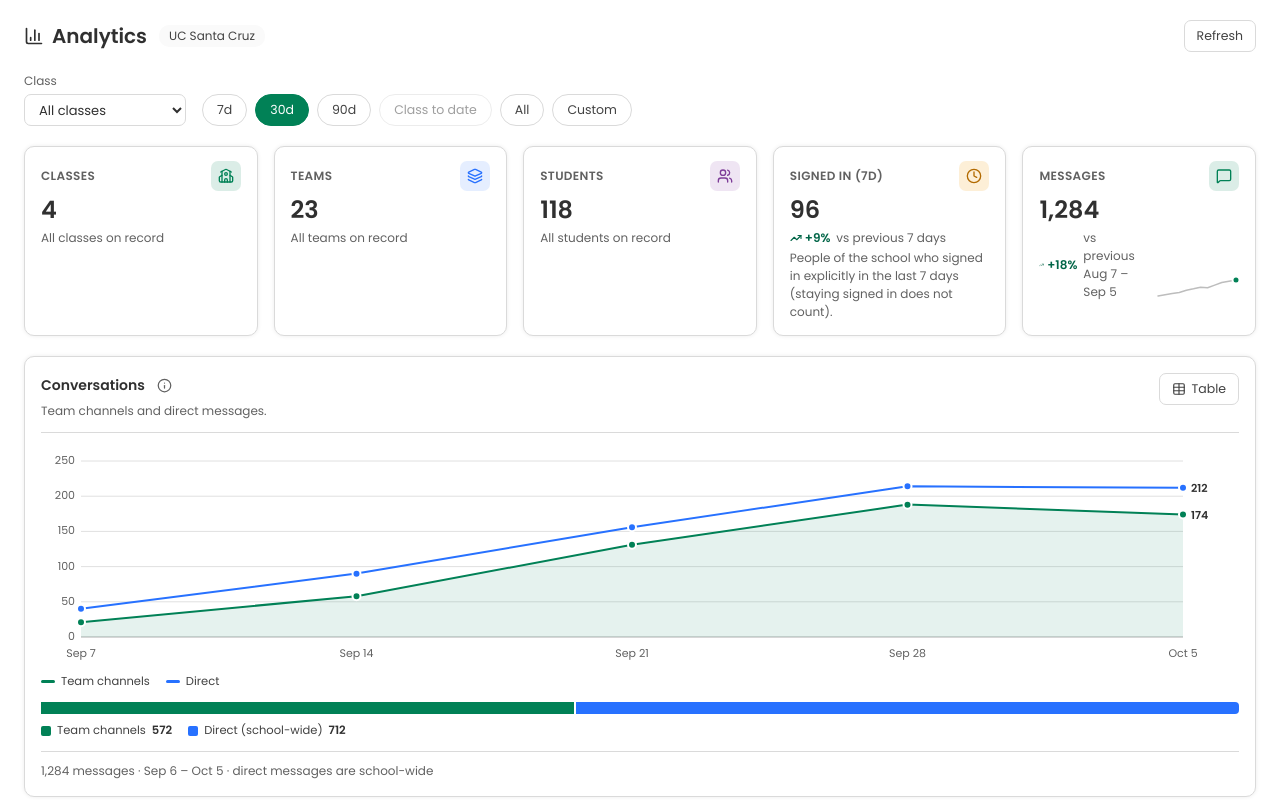
Scenario: AnalyticsPage › lists the conversations week by week as a table
Expected: the text "1,284 messages" is shown, [41, 762, 433, 779]
Click the button with aria-label "Conversations as a table".
click(1199, 389)  # box [1158, 373, 1239, 405]
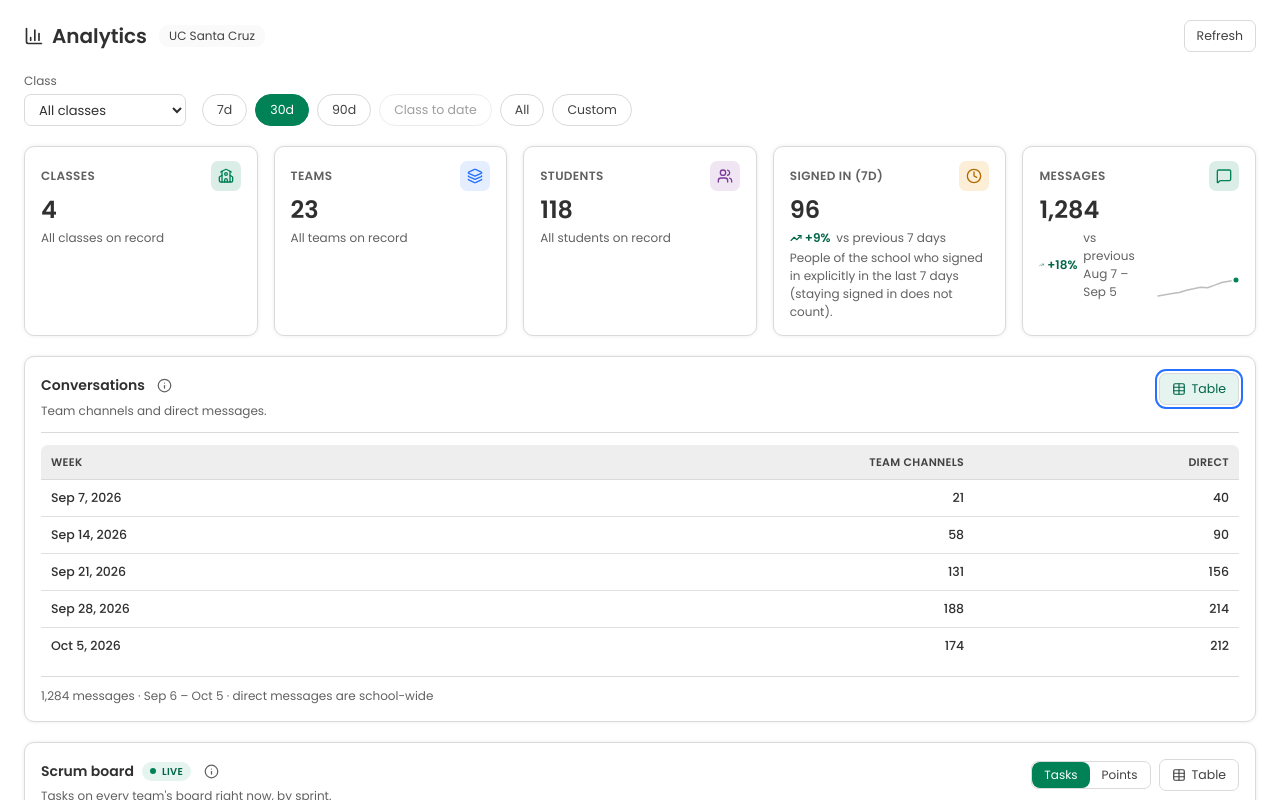
Result: the cells read "21", "40", in this order at [472, 480, 974, 517]; [974, 480, 1239, 517]
